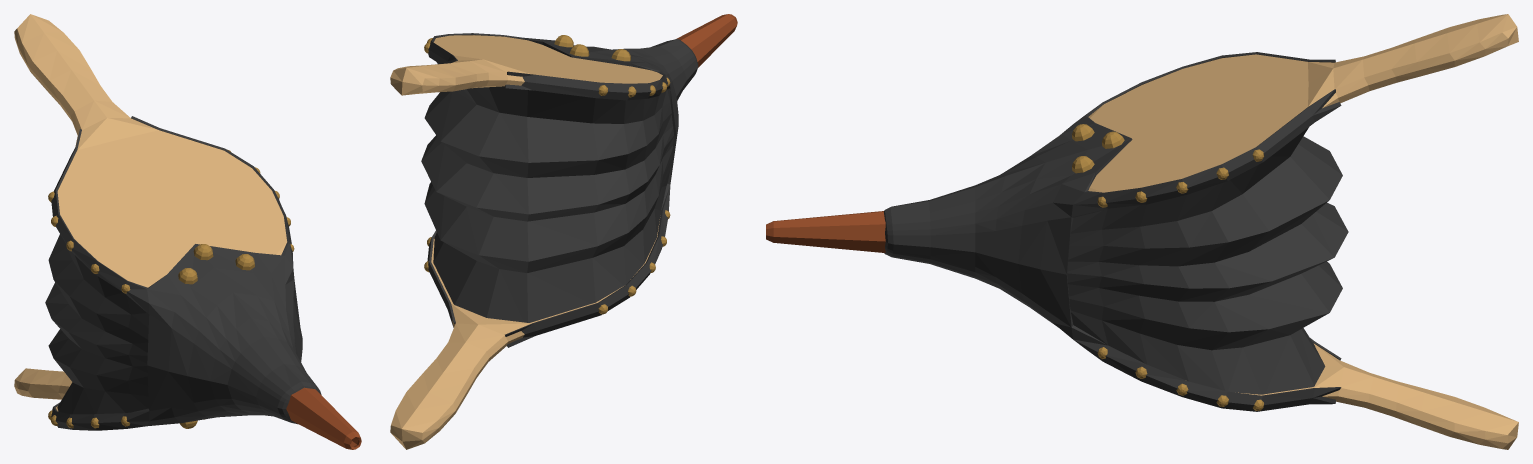
The model's file is Bellow.glb.
3 views of the same model, side by side, from view 1: azimuth 30°, elevation 25°; view 2: azimuth 150°, elevation 25°; view 3: azimuth 270°, elevation 25° (orthographic). The views are drawn at different scales.
Visible parts, largest first — view 1: Node; view 2: Node; view 3: Node.
Part boxes in pixels (x1=…): Node: x1=14, y1=14, x2=361, y2=449; Node: x1=390, y1=14, x2=737, y2=449; Node: x1=766, y1=14, x2=1518, y2=449.
Bounding box in the file's own units: 3.47 × 5.97 × 9.35.
